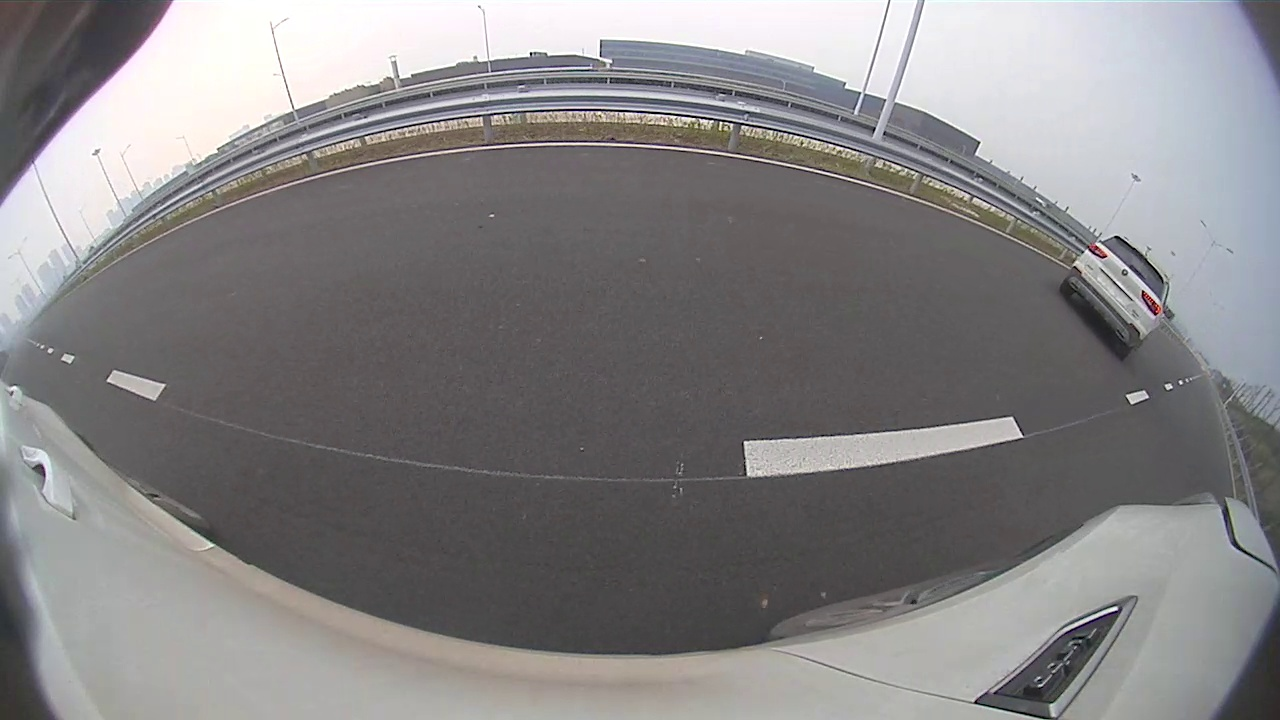car: (1060, 233, 1174, 359)
